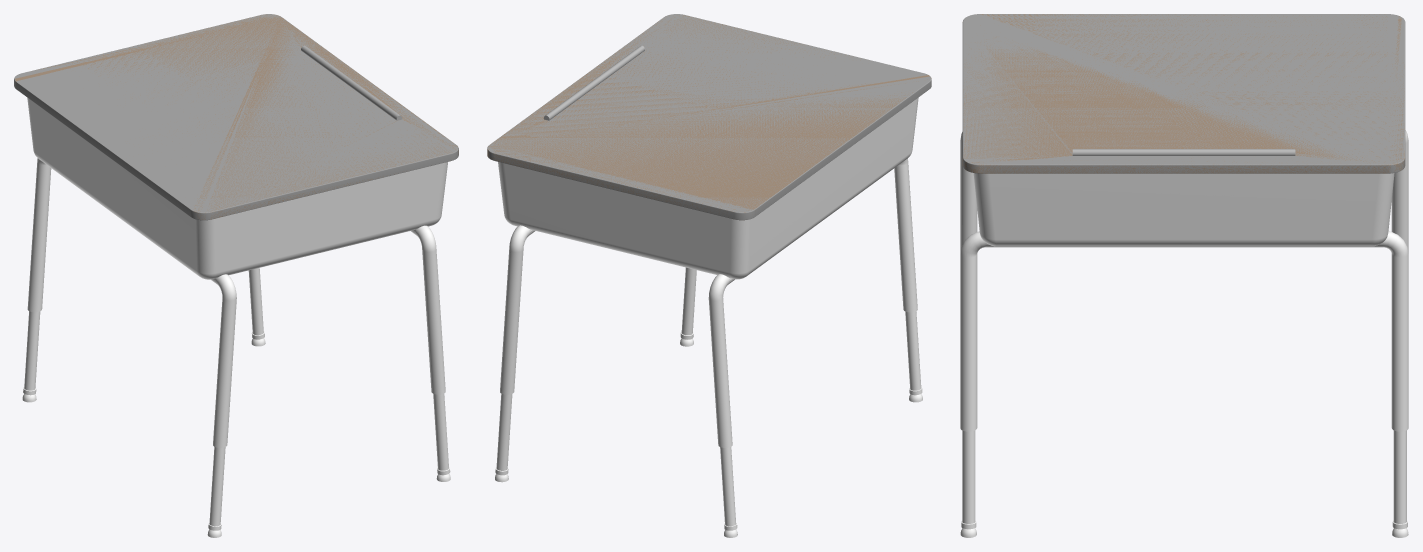
File: StudentDeskFBX.fbx
3 renders of one model, left to right at view 1: azimuth 30°, elevation 25°; view 2: azimuth 150°, elevation 25°; view 3: azimuth 270°, elevation 25°, orthographic. The views are drawn at different scales.
Visible parts, largest first — view 1: pCube2, pCube3, polySurface1, pCylinder4; view 2: pCube2, pCube3, polySurface1, pCylinder4; view 3: pCube2, pCube3, polySurface1, pCylinder4.
Boxes of the visible parts, bbox=[...] form: pCube2: bbox=[14, 14, 458, 220]; pCube3: bbox=[22, 98, 450, 537]; polySurface1: bbox=[15, 14, 458, 219]; pCylinder4: bbox=[301, 45, 402, 120]; pCube2: bbox=[487, 14, 931, 220]; pCube3: bbox=[495, 97, 922, 537]; polySurface1: bbox=[487, 15, 931, 220]; pCylinder4: bbox=[543, 45, 644, 120]; pCube2: bbox=[962, 14, 1405, 173]; pCube3: bbox=[960, 130, 1408, 537]; polySurface1: bbox=[962, 14, 1405, 173]; pCylinder4: bbox=[1072, 149, 1295, 155].
Bounding box in the file's own units: 3.27 × 3.89 × 4.1.
